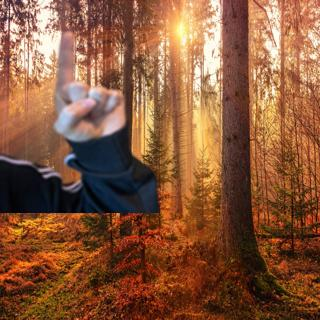IRRITATED: (50, 30, 129, 147)
